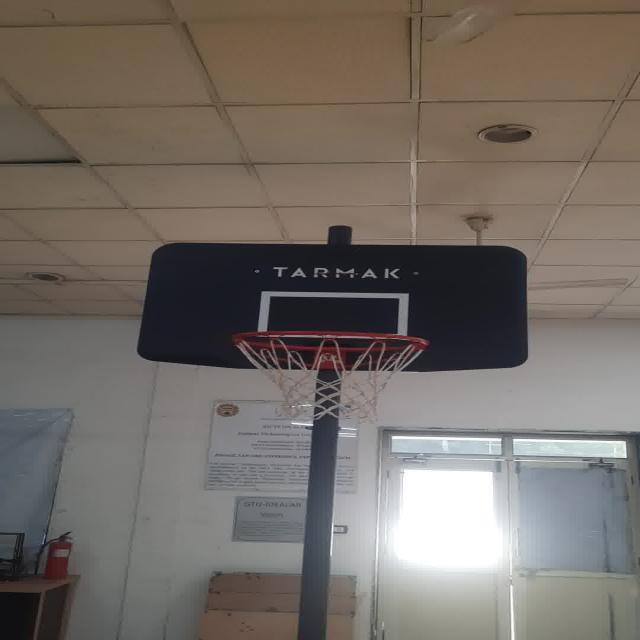objects: (222, 326, 433, 424), (257, 294, 408, 334)
